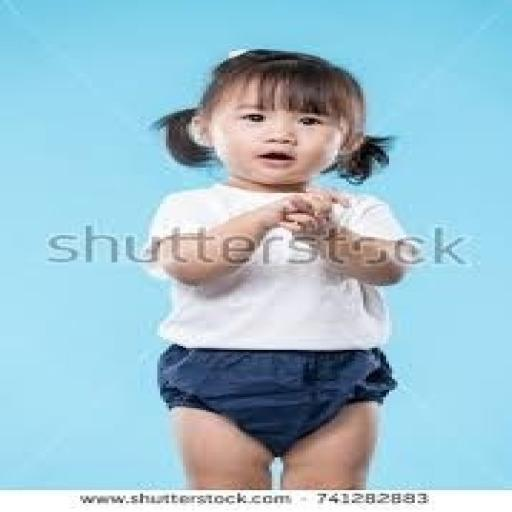clapping: (138, 48, 424, 490)
